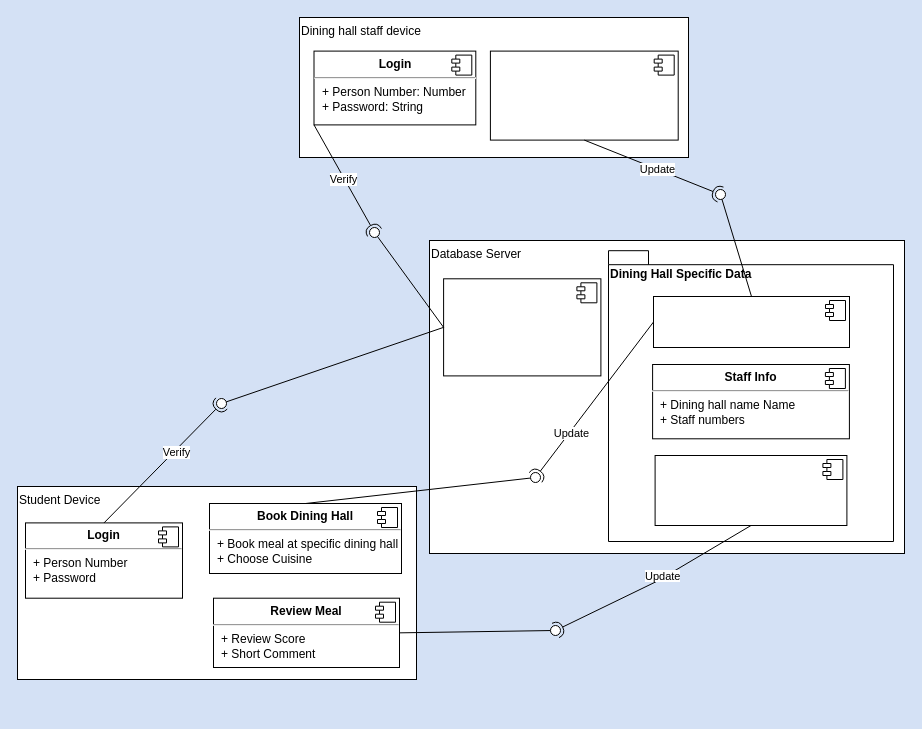
The diagram is 922 pixels wide and 729 high, and some of its shapes have lost their labels. Here are the shapes that lost their labels. From the top down, the centre of each, then its label:
point (583, 95): See Meal Info + Date + Meal type + Total Number of booked meals
point (522, 327): Verify Login + Person Number + Password
point (751, 322): Booking Info + Cuisine
point (750, 490): Review Info + Review Score + Comment
